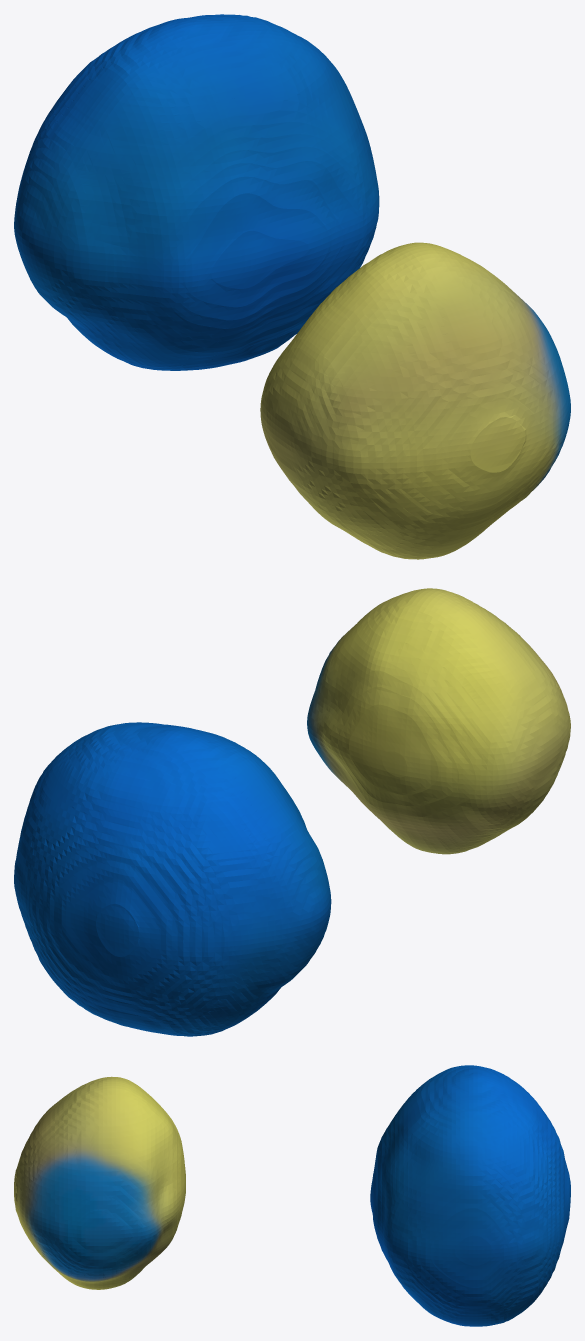
3 renders of one model, top to bottom at view 1: azimuth 30°, elevation 25°; view 2: azimuth 150°, elevation 25°; view 3: azimuth 270°, elevation 25°, orthographic. The views are drawn at different scales.
Parts seen in each view (by area): view 1: geometry_0; view 2: geometry_0; view 3: geometry_0.
Boxes of the visible parts, x1=… form: geometry_0: x1=14, y1=14, x2=570, y2=559; geometry_0: x1=14, y1=588, x2=570, y2=1036; geometry_0: x1=14, y1=1065, x2=570, y2=1326.
Bounding box in the file's own units: 0.7639 × 0.7385 × 1.6.
